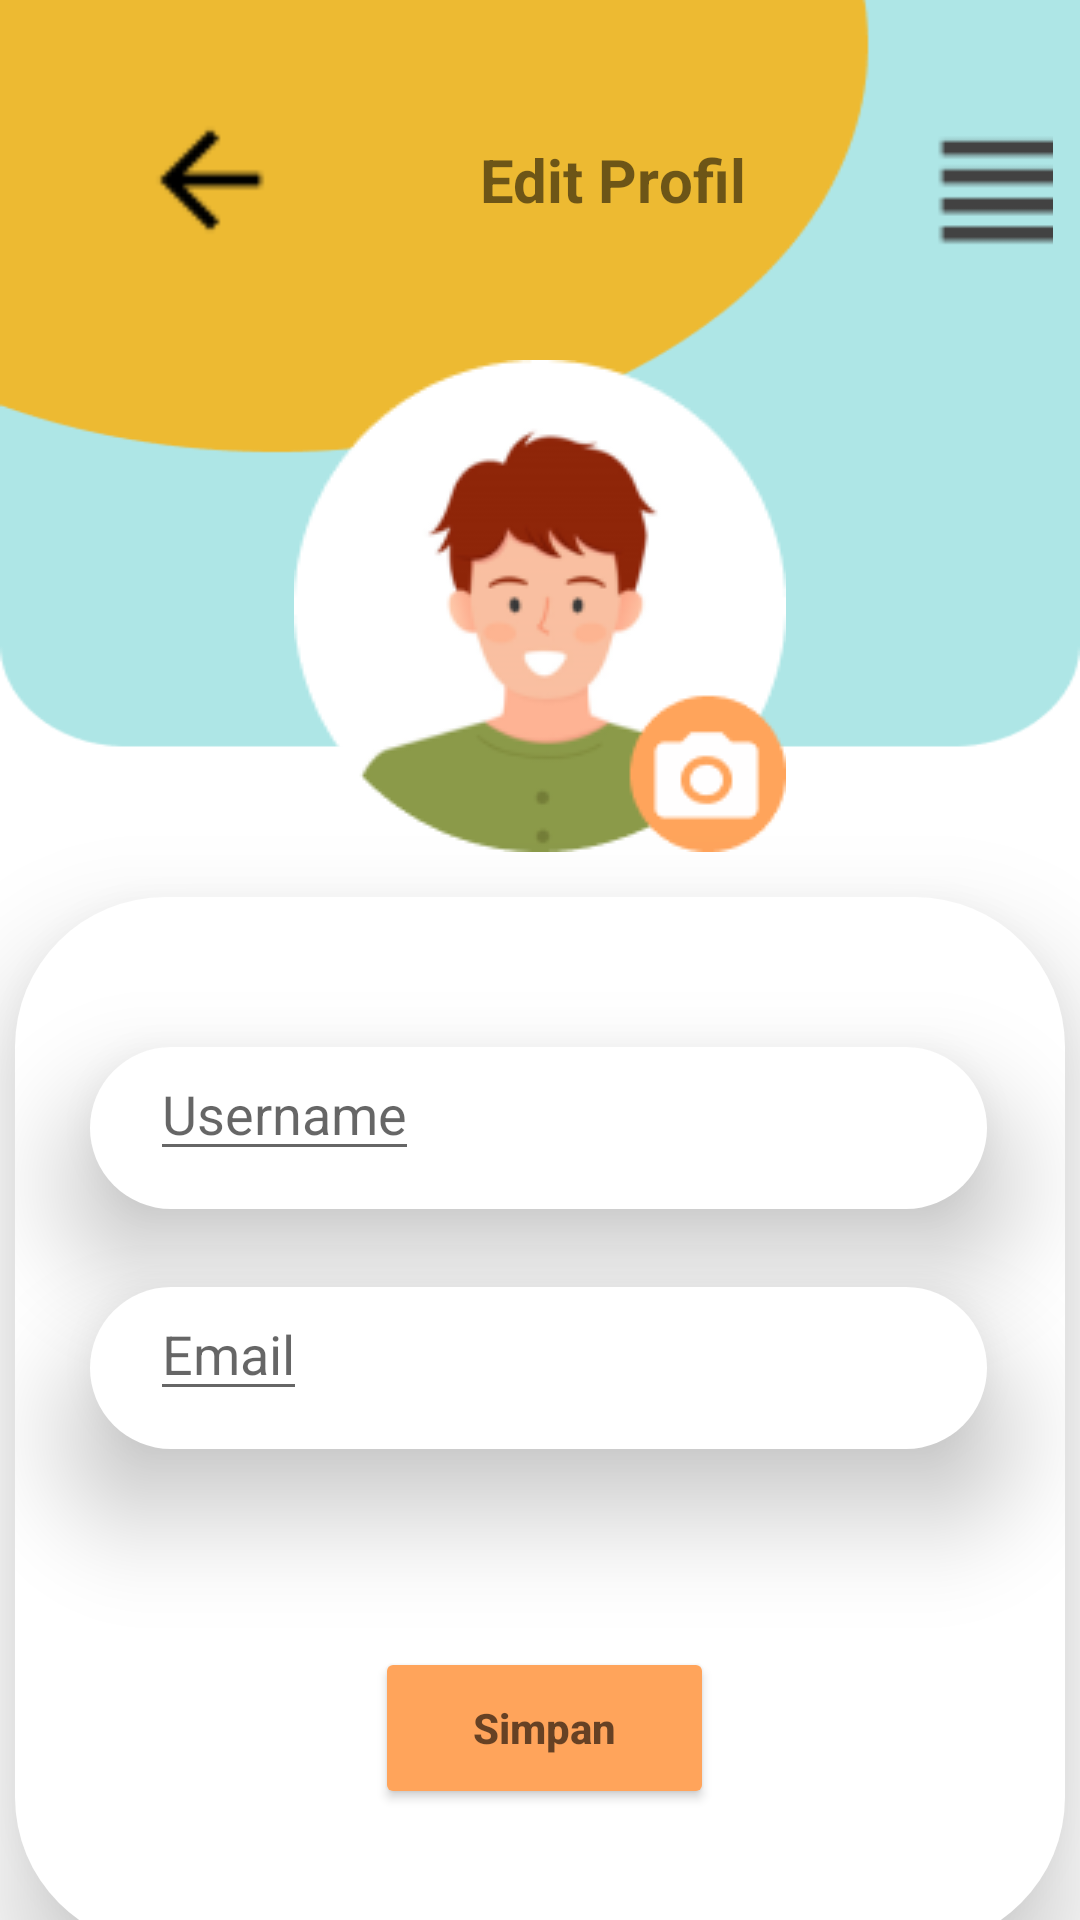

Icon click points for this 1080×1920 phone screenshot, format point (x, y):
arrow back: point (212, 180)
